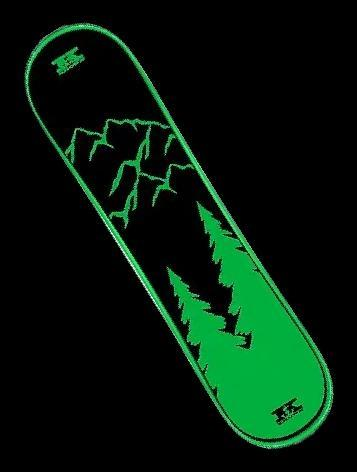Snowboard: (23, 22, 334, 450)
